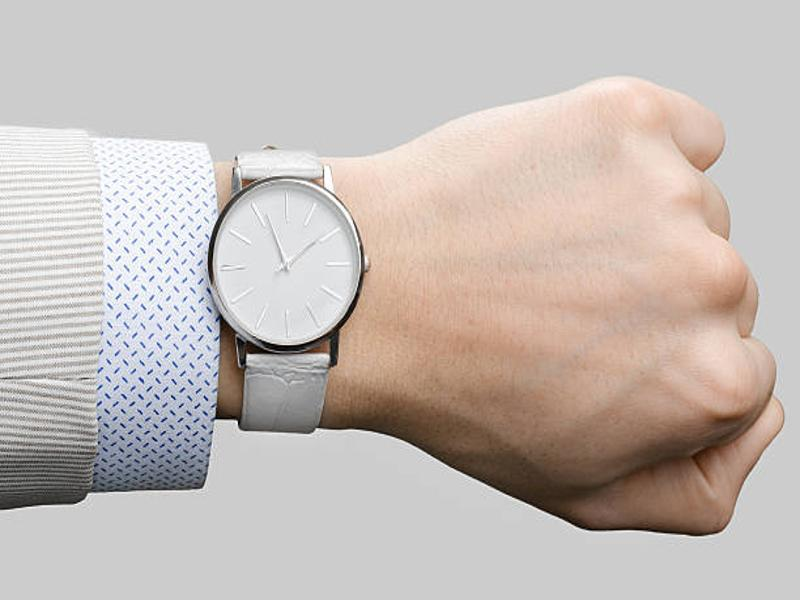watch: (205, 146, 372, 435)
